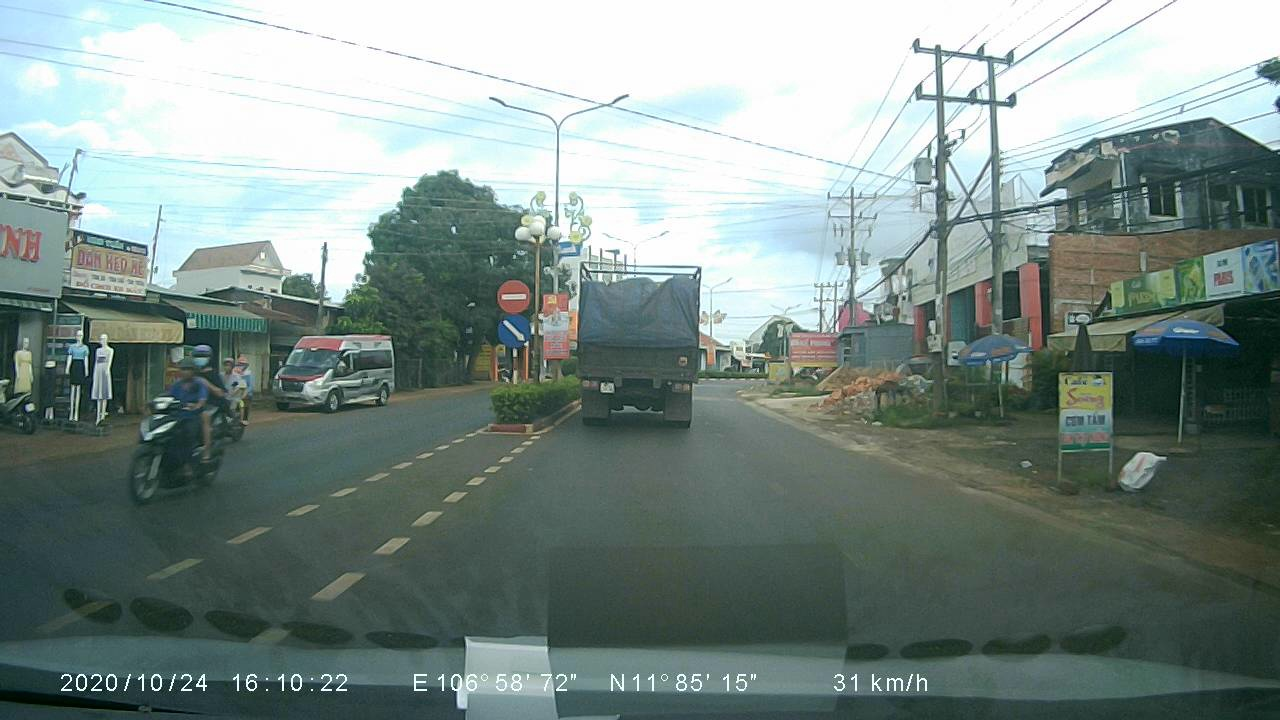Cam di nguoc chieu: (494, 277, 532, 311)
Huong di phai re phai: (495, 315, 532, 350)
